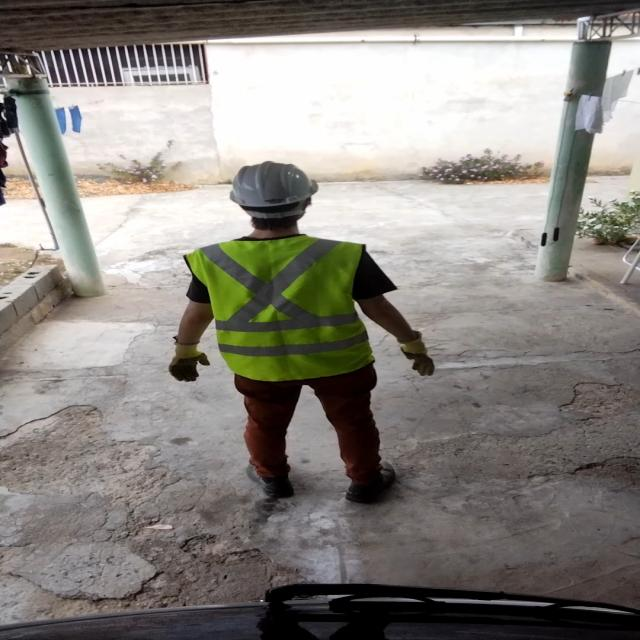glove: (389, 327, 442, 381), (163, 338, 212, 389)
helmet: (218, 158, 323, 216)
pants: (234, 373, 382, 479)
vest: (203, 233, 376, 380)
